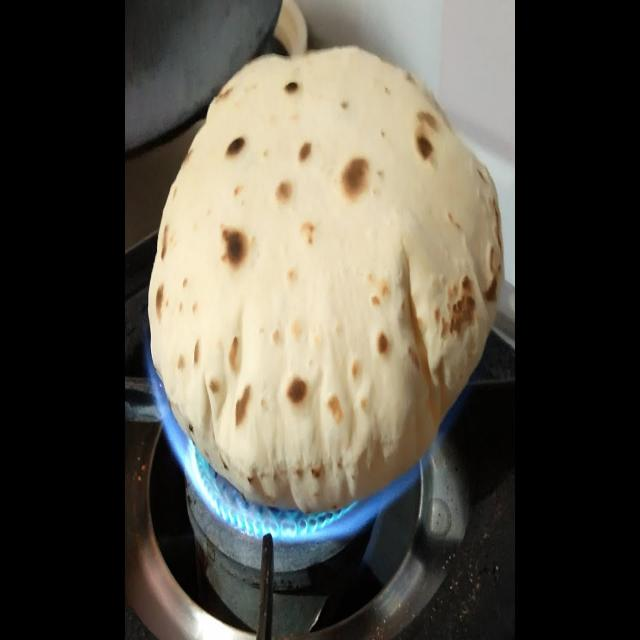ROTI: (151, 47, 505, 510)
